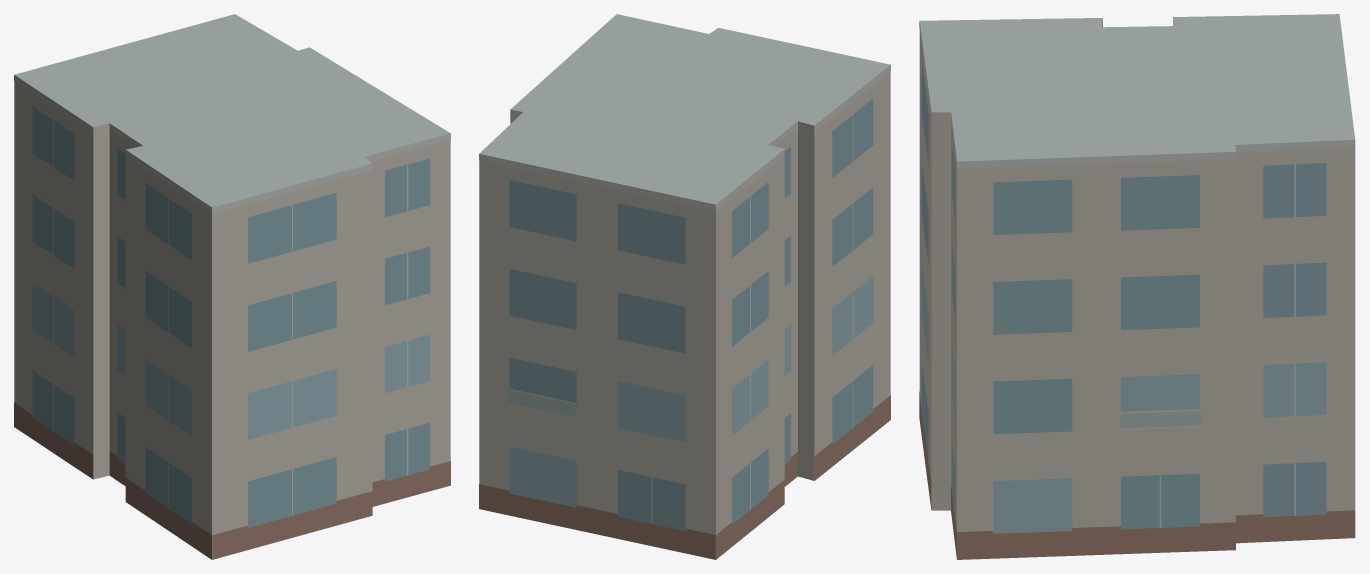
The model's file is survey-upis-32464888.glb.
The picture shows the model from 3 angles, left to right: view 1: azimuth 30°, elevation 25°; view 2: azimuth 150°, elevation 25°; view 3: azimuth 270°, elevation 25°; orthographic projection. The views are drawn at different scales.
Visible parts, largest first — view 1: survey-upis-32464888.tmp; view 2: survey-upis-32464888.tmp; view 3: survey-upis-32464888.tmp.
Boxes of the visible parts, left/top/right/bottom form: survey-upis-32464888.tmp: left=14, top=14, right=450, bottom=559; survey-upis-32464888.tmp: left=479, top=14, right=890, bottom=559; survey-upis-32464888.tmp: left=919, top=14, right=1355, bottom=559.
Size of the model in its own units: 10.34 by 13 by 12.9.
